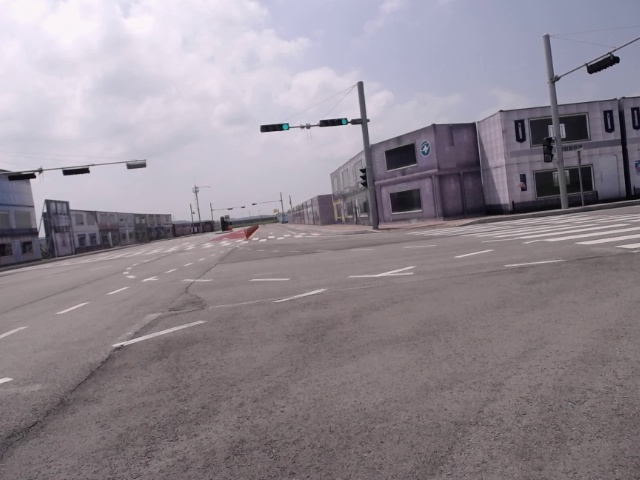straight_green_4: (318, 117, 349, 127), (260, 124, 289, 134)
